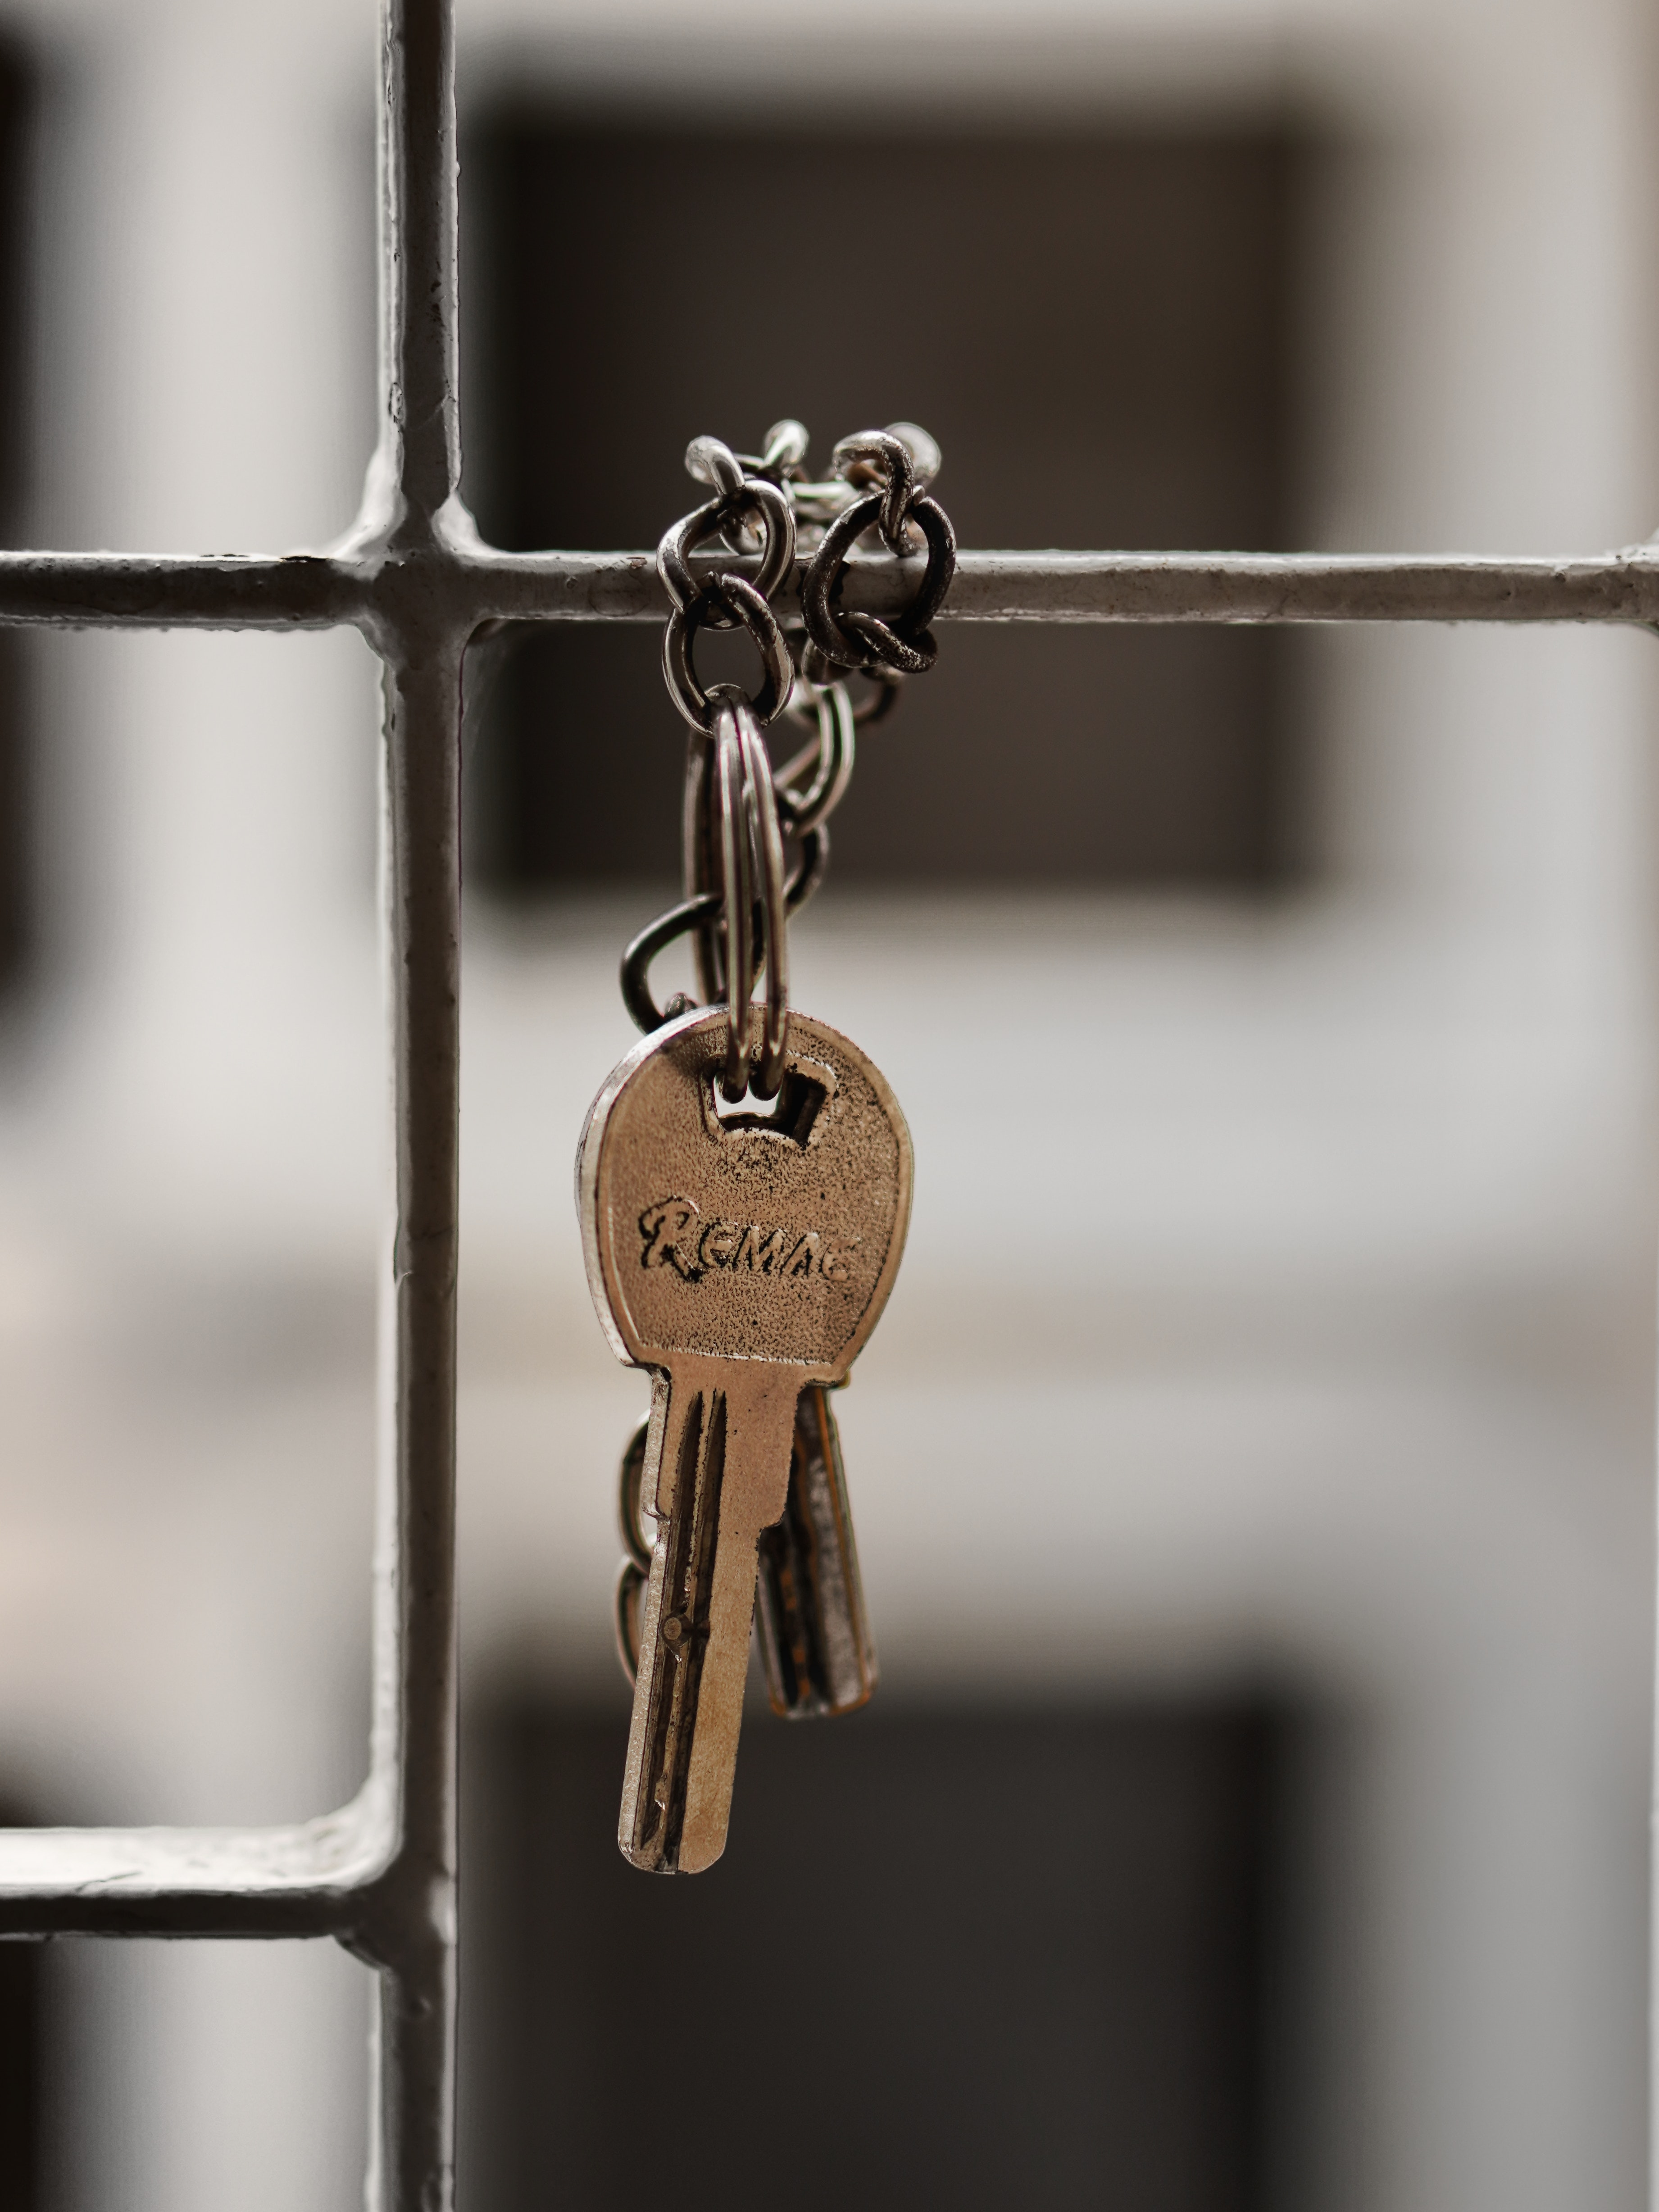key: (565, 982, 932, 1898)
